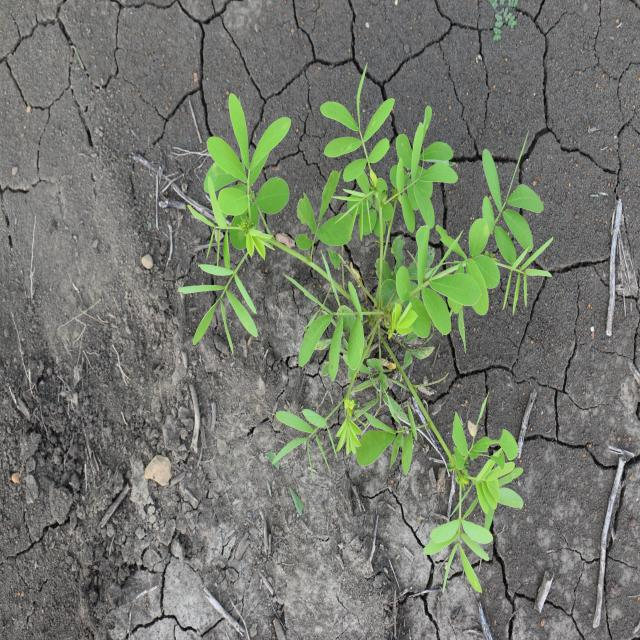Sicklepod: (176, 62, 555, 598)
SpottedSpurge: (488, 1, 520, 44)
